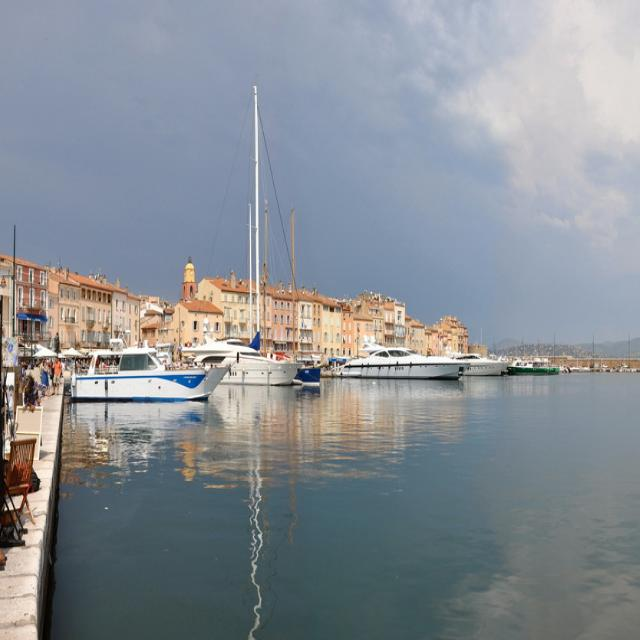fishing boat: (80, 328, 223, 407), (350, 309, 466, 370), (208, 320, 301, 381)
